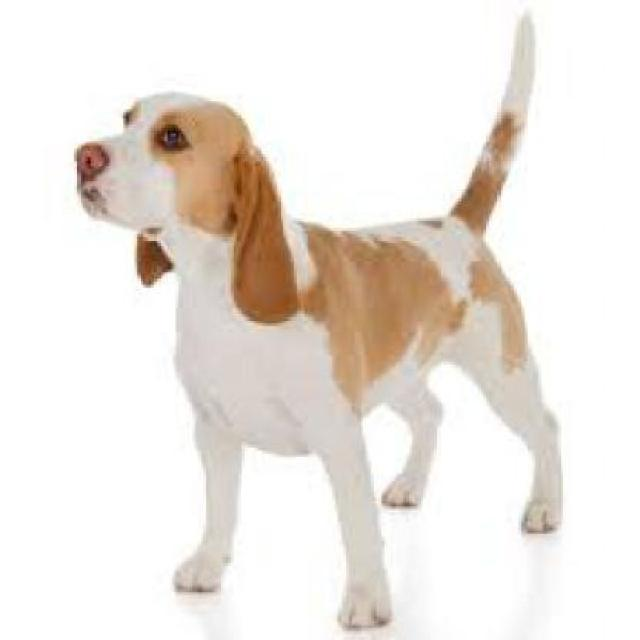Dog: (68, 6, 570, 631)
